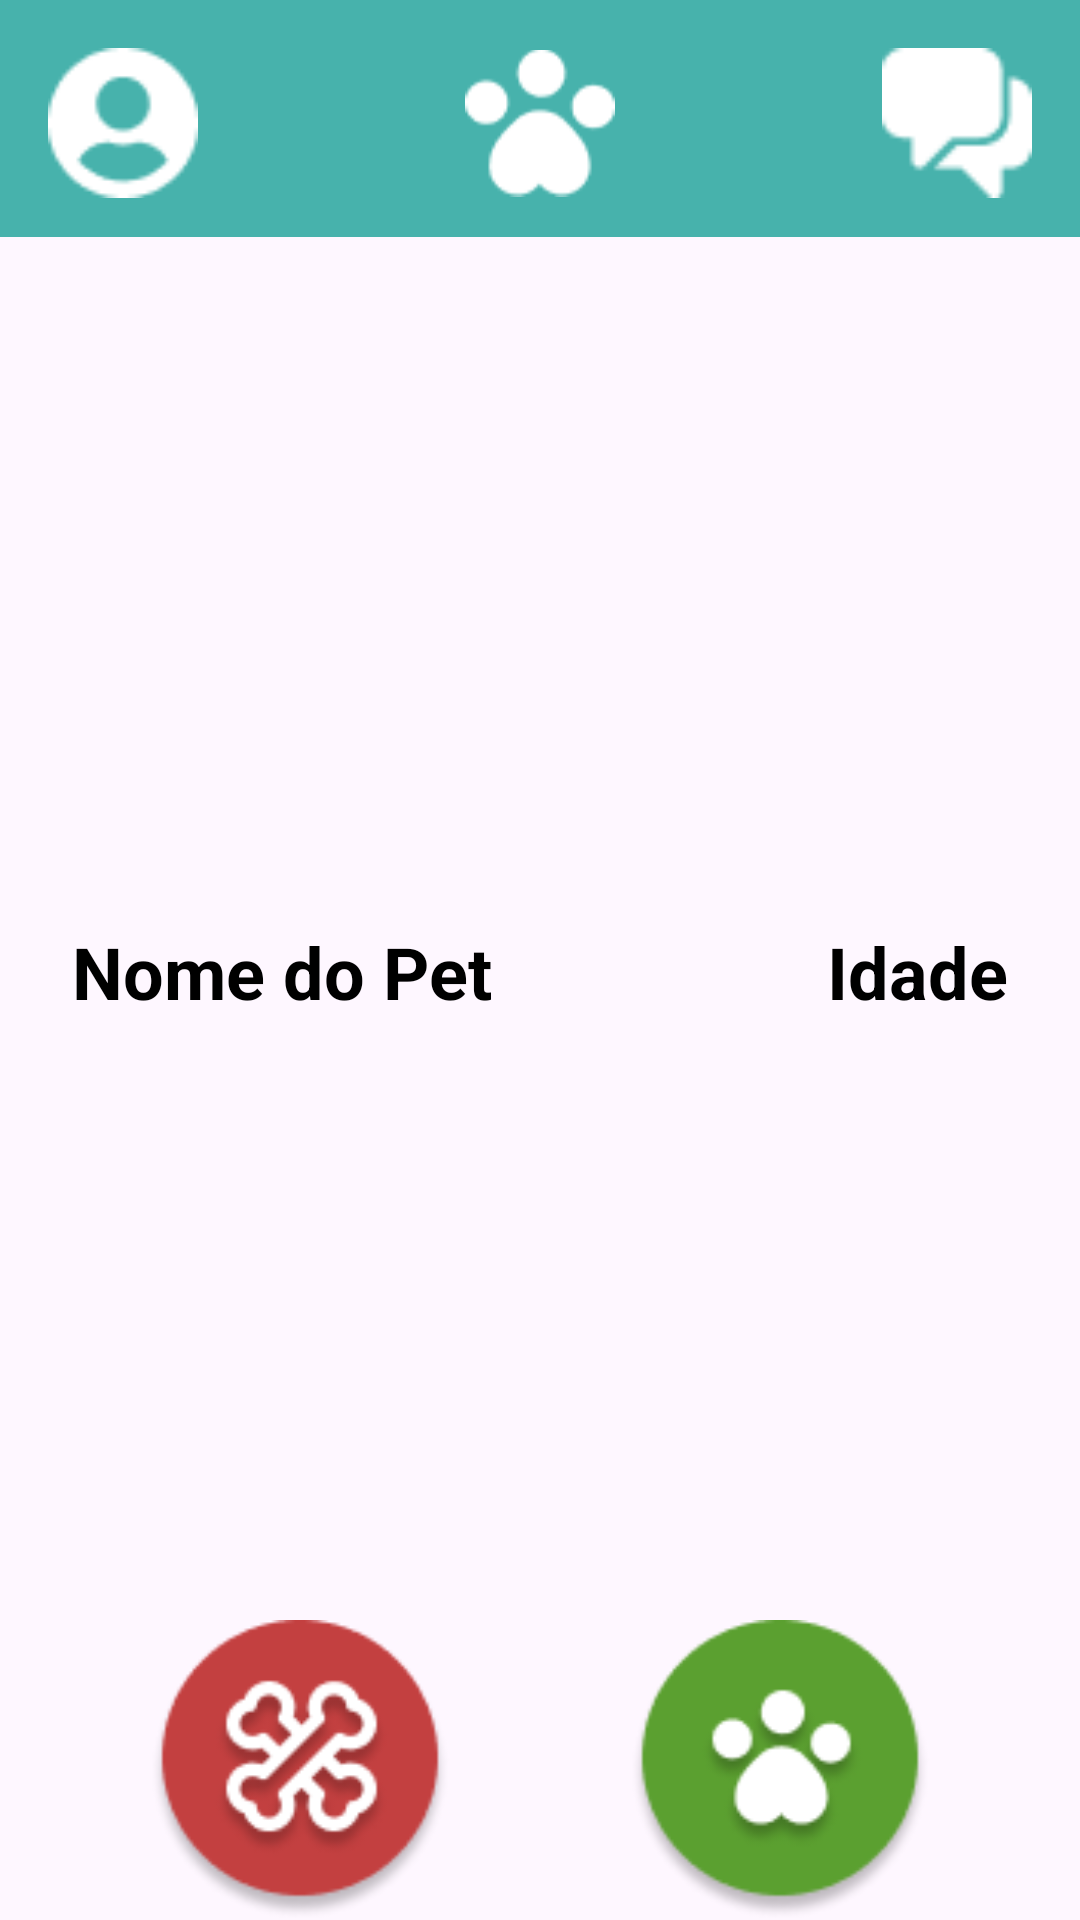

Screen size 1080 x 1920. Icon name, then its box in pixels as (x1, y1, x2, y2):
iconmessages: (882, 48, 1032, 198)
iconpaw: (465, 50, 615, 197)
iconuser: (48, 48, 198, 198)
nao: (161, 1620, 439, 1909)
sim: (641, 1620, 919, 1909)
